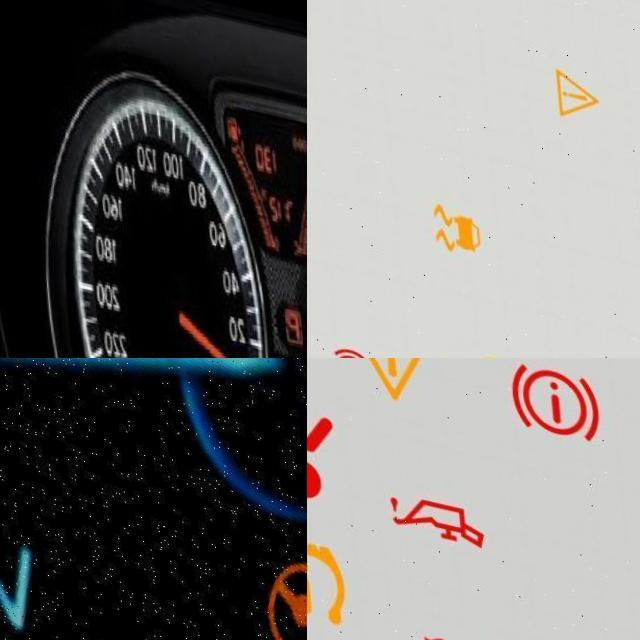Electronic Power Steering: (227, 485, 307, 640)
